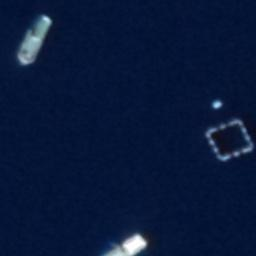square_solid: (203, 115, 255, 168)
